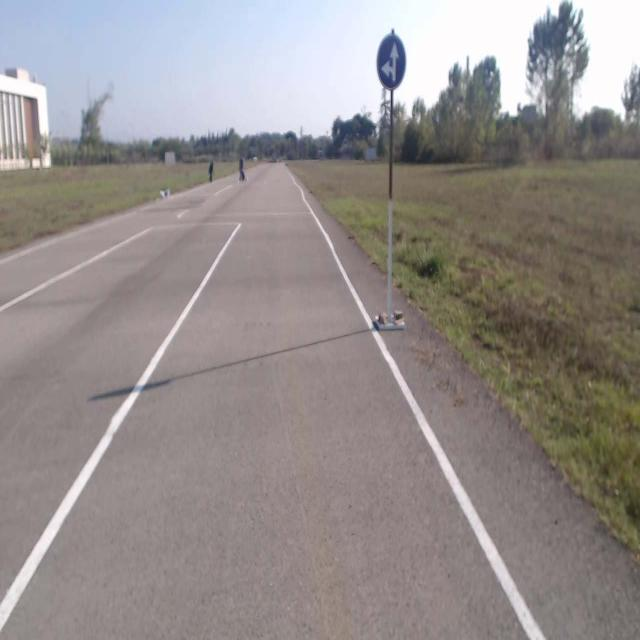ilerisol: (379, 35, 405, 85)
